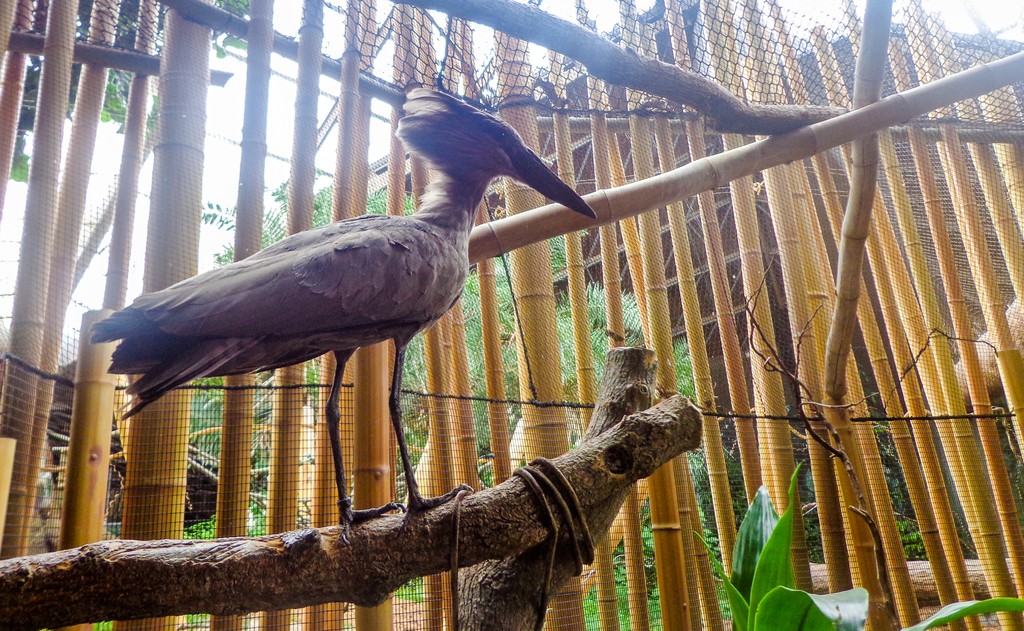Tree: (7, 3, 263, 178)
